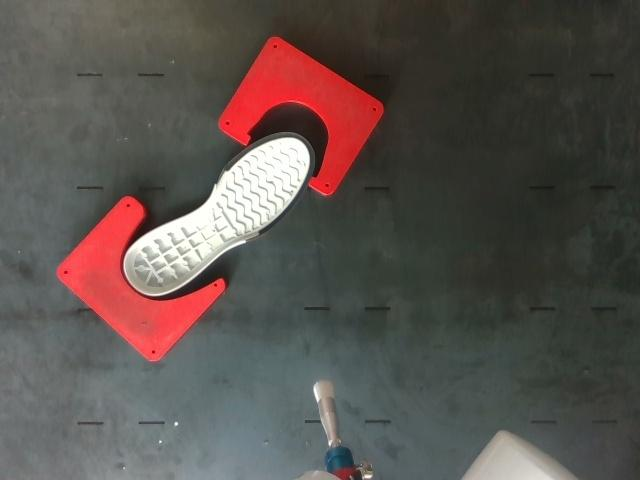shoes: (125, 132, 315, 294)
